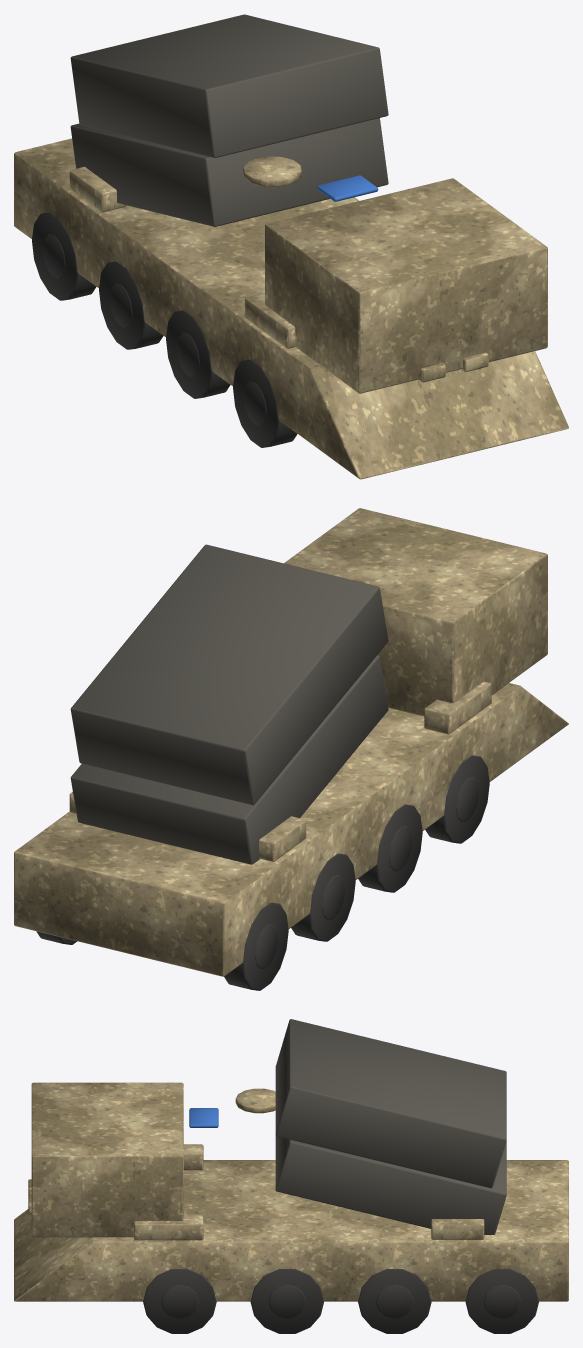
File: msl_e4_us_coastal_LOD0.glb
3 views of the same model, one above another, from view 1: azimuth 30°, elevation 25°; view 2: azimuth 150°, elevation 25°; view 3: azimuth 270°, elevation 25° (orthographic). The views are drawn at different scales.
Parts seen in each view (by area): view 1: msl_e4_us_coastal_LOD0_body, msl_e4_us_coastal_LOD0_deck, msl_e4_us_coastal_LOD0_track, msl_e4_us_coastal_LOD0_team; view 2: msl_e4_us_coastal_LOD0_body, msl_e4_us_coastal_LOD0_deck, msl_e4_us_coastal_LOD0_track; view 3: msl_e4_us_coastal_LOD0_body, msl_e4_us_coastal_LOD0_deck, msl_e4_us_coastal_LOD0_track, msl_e4_us_coastal_LOD0_team.
Part boxes in pixels (x1,y1,x2,y2): msl_e4_us_coastal_LOD0_body: (14, 138, 568, 479); msl_e4_us_coastal_LOD0_deck: (70, 14, 388, 226); msl_e4_us_coastal_LOD0_track: (32, 212, 297, 447); msl_e4_us_coastal_LOD0_team: (317, 175, 378, 201); msl_e4_us_coastal_LOD0_body: (14, 508, 568, 976); msl_e4_us_coastal_LOD0_deck: (70, 544, 388, 864); msl_e4_us_coastal_LOD0_track: (36, 755, 489, 990); msl_e4_us_coastal_LOD0_body: (14, 1082, 568, 1301); msl_e4_us_coastal_LOD0_deck: (275, 1019, 506, 1234); msl_e4_us_coastal_LOD0_track: (143, 1269, 538, 1333); msl_e4_us_coastal_LOD0_team: (189, 1108, 218, 1127).
Bounding box in the file's own units: 2.99 × 4.01 × 8.39.
Materials: 5 (1 with a texture image).
